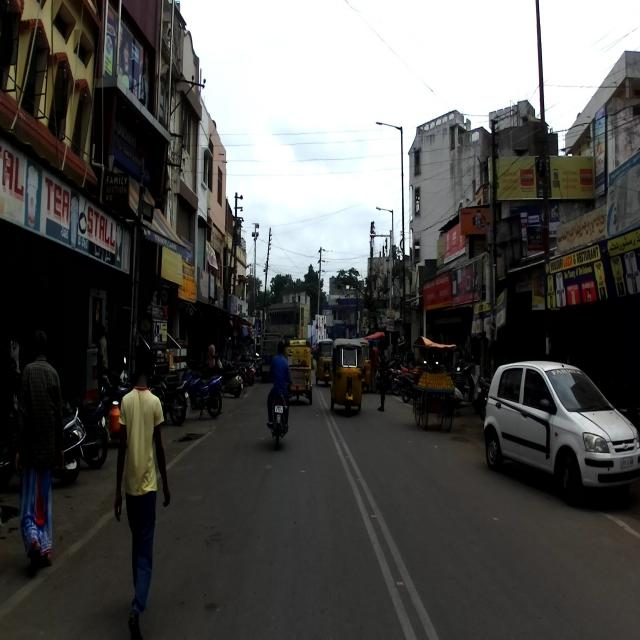car: (482, 359, 640, 508)
motorcycle: (149, 364, 191, 426)
scooter: (0, 385, 86, 485), (120, 355, 166, 429), (444, 353, 479, 416)
